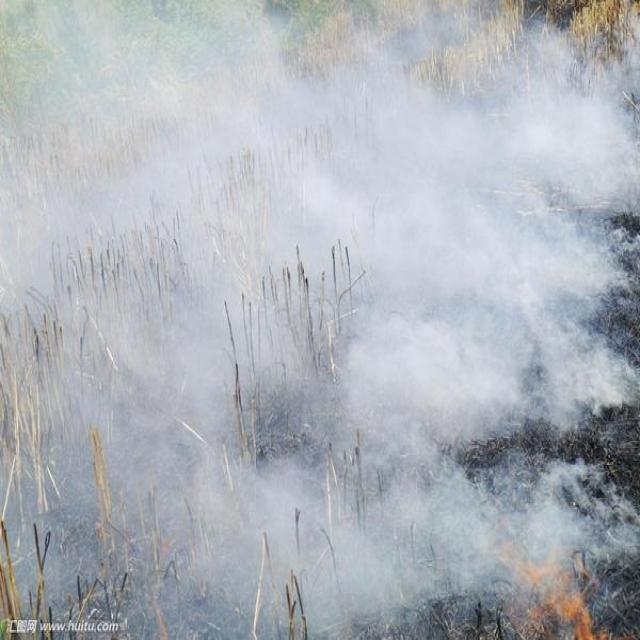Fire: (494, 539, 612, 640)
Smoke: (1, 1, 639, 638)
